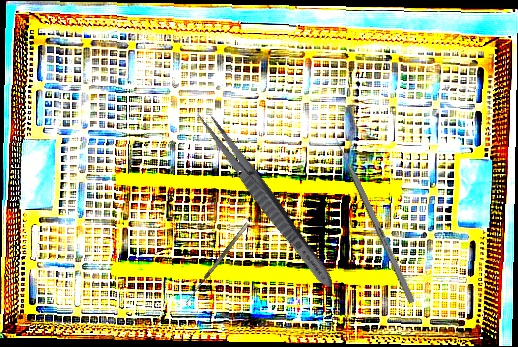Dressing Forceps: (191, 105, 341, 295)
Hook Surgical: (183, 222, 254, 308)
Pusher: (329, 129, 416, 304)
